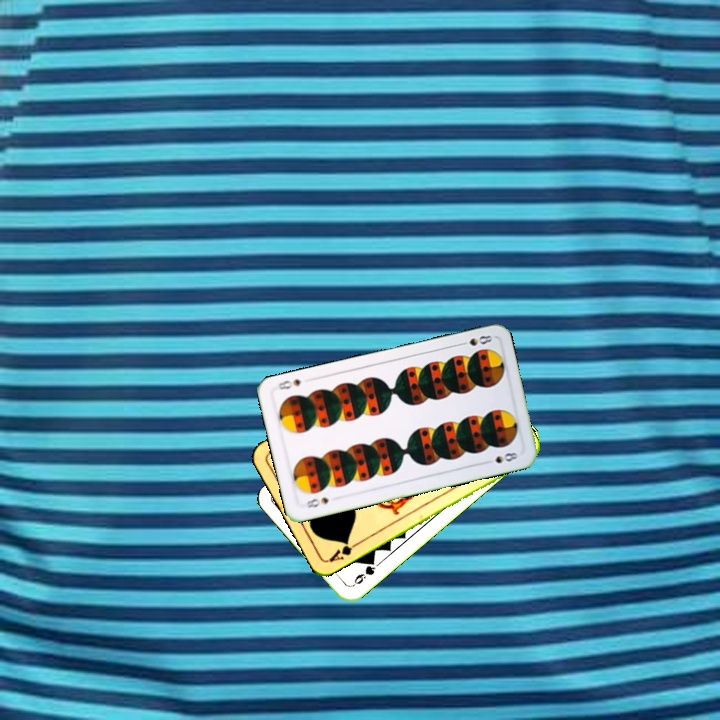G9: (347, 556, 378, 589)
GA: (325, 537, 362, 565)
S8: (454, 331, 495, 349), (302, 493, 332, 511)
